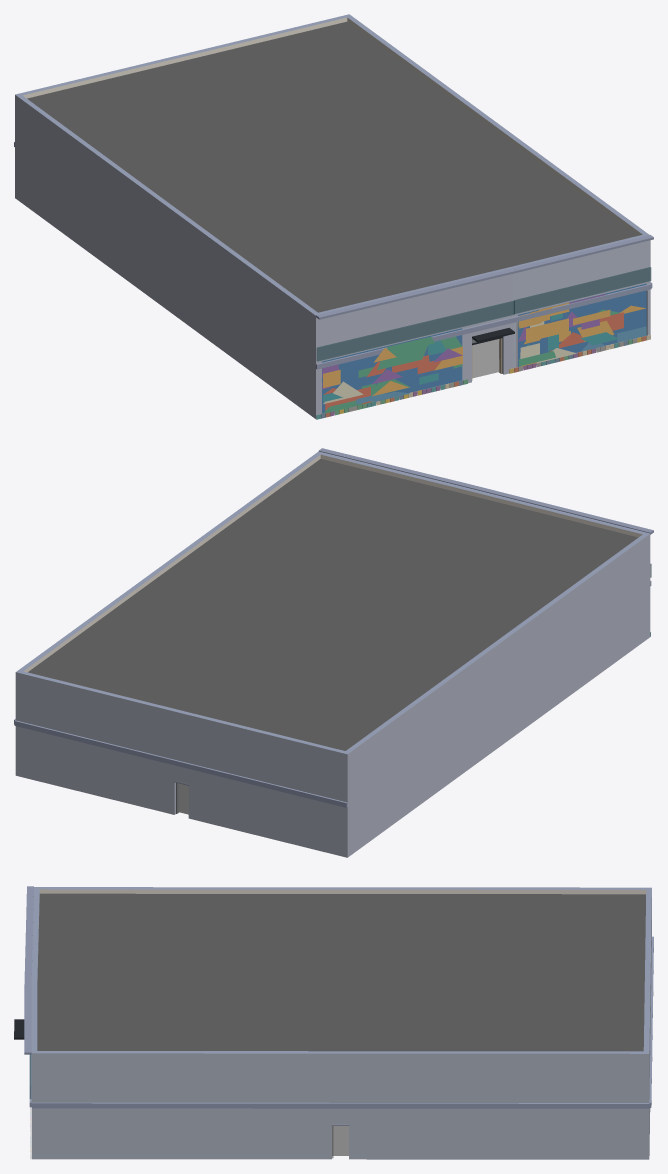
Rendered from exterior.glb.
The picture shows the model from 3 angles, top to bottom: view 1: azimuth 30°, elevation 25°; view 2: azimuth 150°, elevation 25°; view 3: azimuth 270°, elevation 25°; orthographic projection. The views are drawn at different scales.
Parts seen in each view (by area): view 1: roof, shell, mural, hand-ornament, mural.001, front-dressing, trim, shadow-proxy; view 2: roof, shell, trim, hand-ornament; view 3: roof, shell, trim, hand-ornament, shadow-proxy.
Boxes of the visible parts, x1=… form: roof: x1=27, y1=21, x2=638, y2=312; shell: x1=15, y1=14, x2=650, y2=418; mural: x1=322, y1=328, x2=462, y2=413; hand-ornament: x1=316, y1=235, x2=653, y2=419; mural.001: x1=518, y1=283, x2=646, y2=366; front-dressing: x1=514, y1=267, x2=651, y2=313; trim: x1=14, y1=142, x2=652, y2=369; shadow-proxy: x1=472, y1=339, x2=499, y2=378; roof: x1=28, y1=459, x2=638, y2=750; shell: x1=15, y1=451, x2=650, y2=857; trim: x1=14, y1=580, x2=651, y2=807; hand-ornament: x1=319, y1=448, x2=653, y2=636; roof: x1=37, y1=893, x2=645, y2=1051; shell: x1=31, y1=887, x2=651, y2=1159; trim: x1=29, y1=936, x2=653, y2=1108; hand-ornament: x1=14, y1=886, x2=33, y2=1158; shadow-proxy: x1=332, y1=1126, x2=348, y2=1155.
Size of the model in its own units: 23.6 by 7 by 38.08.
